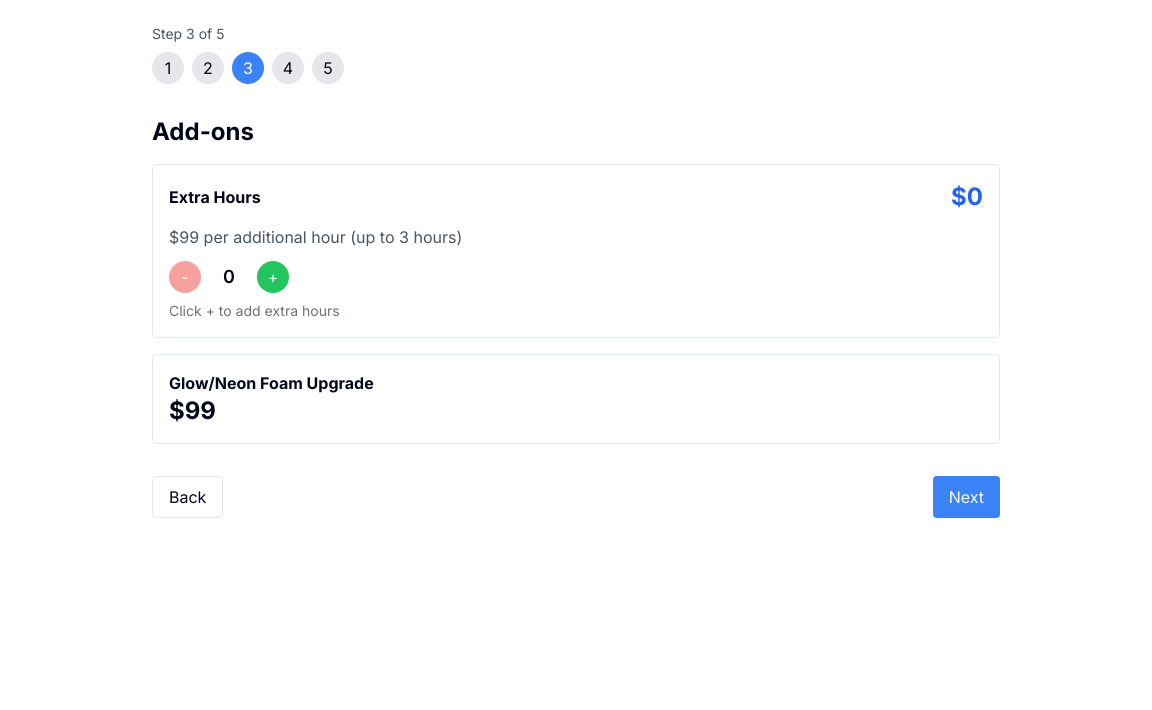
Test: BookingStepper › Step 3: Add-ons Selection › should allow proceeding without add-ons
Step 1. Click the button "Next" → (966, 497), box [933,476,1000,518]
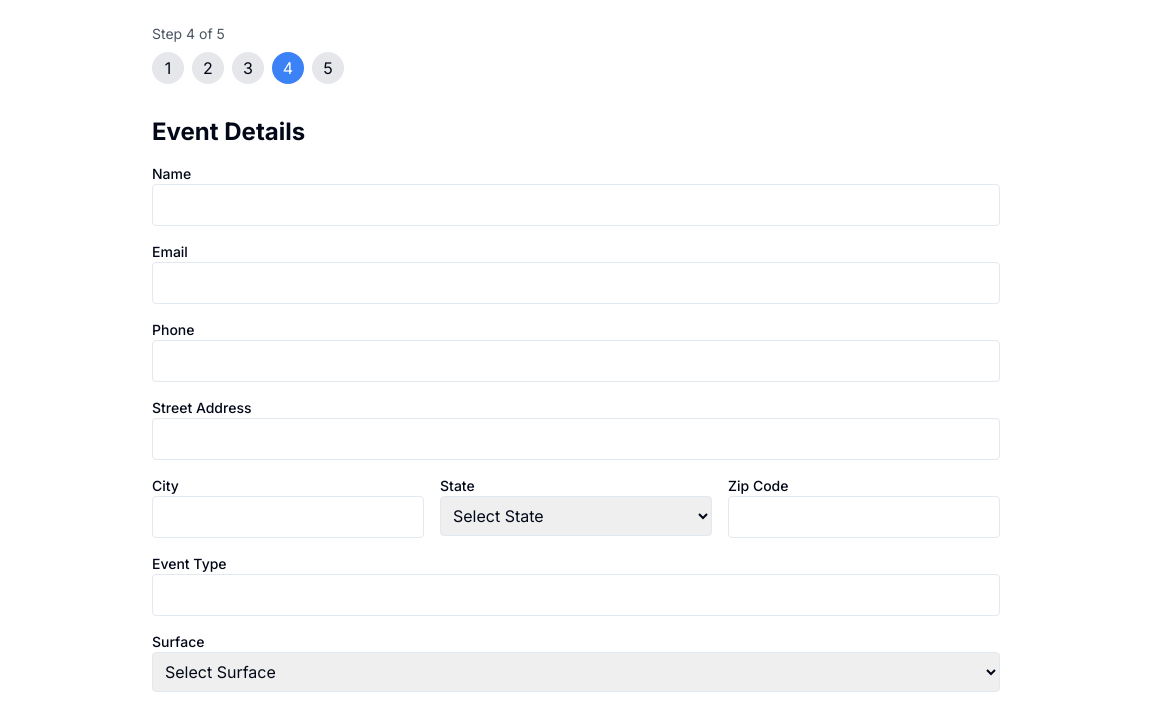
Check: the heading "Event Details" is shown, box [152,117,305,146]
